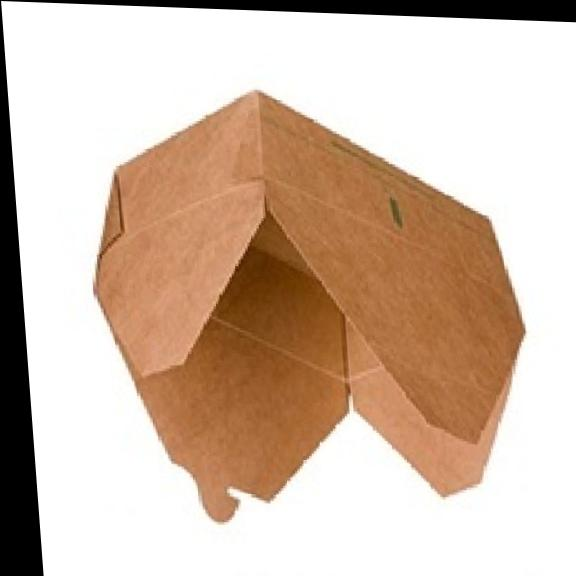Kertas: (97, 94, 522, 521)
